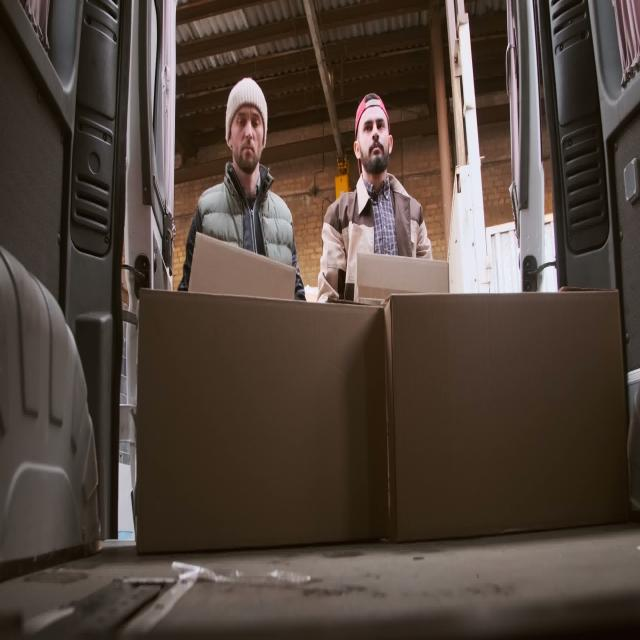counting-the-number-of-boxes: (136, 286, 389, 559), (384, 291, 632, 546), (188, 233, 297, 299), (355, 253, 450, 305)
